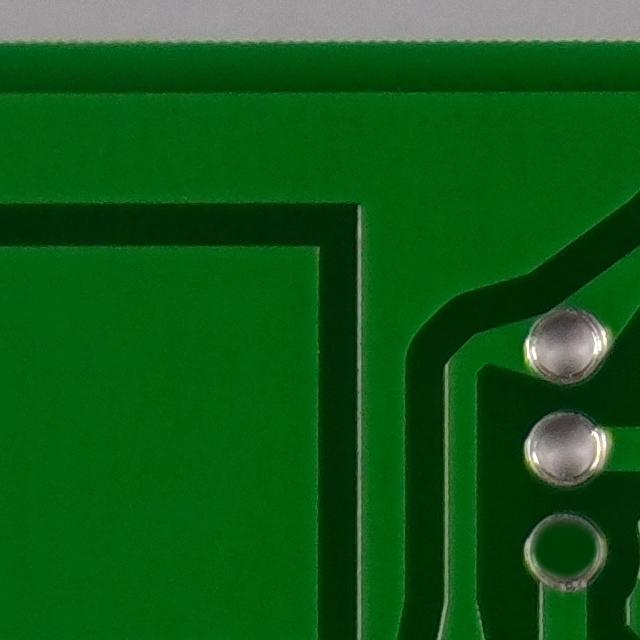missing_hole: (522, 508, 613, 592)
